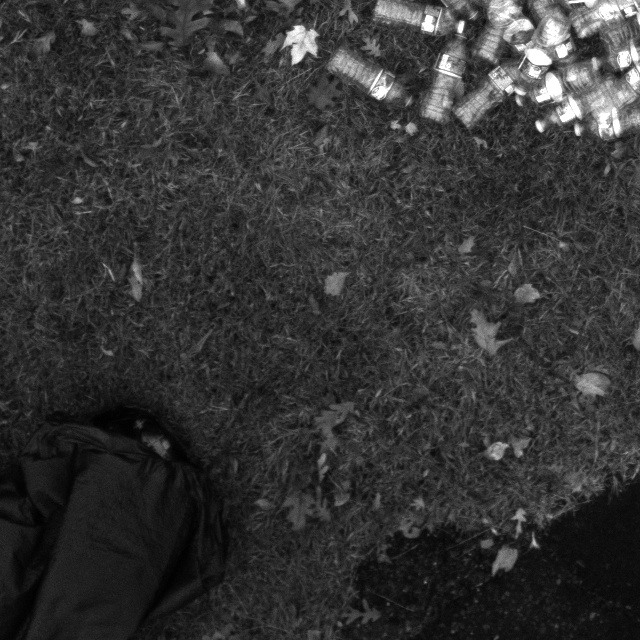bottle: (322, 32, 416, 114), (532, 66, 636, 137), (453, 55, 530, 131), (514, 51, 606, 113), (420, 30, 471, 127), (466, 0, 529, 70), (530, 0, 582, 79), (569, 94, 640, 141), (589, 24, 639, 85)
